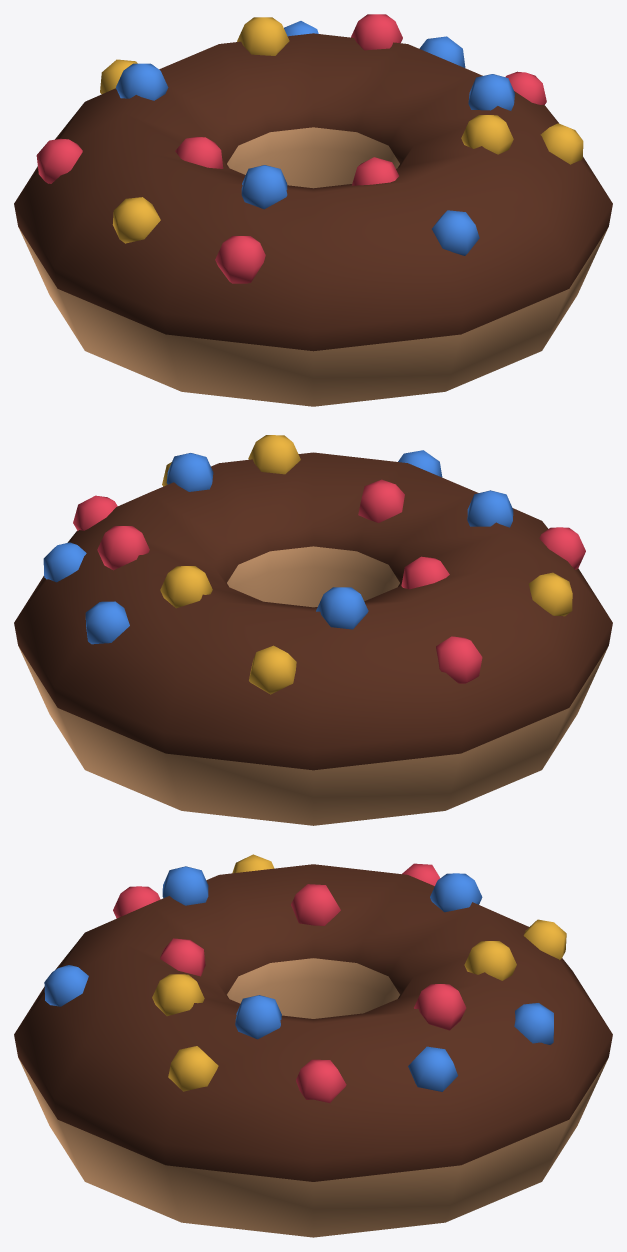
Rendered from DonutToy_01.fbx.
The picture shows the model from 3 angles, top to bottom: view 1: azimuth 30°, elevation 25°; view 2: azimuth 150°, elevation 25°; view 3: azimuth 270°, elevation 25°; orthographic projection.
Parts seen in each view (by area): view 1: DonutToy_01; view 2: DonutToy_01; view 3: DonutToy_01.
Part boxes in pixels (left/top/right/bottom): DonutToy_01: left=14, top=14, right=612, bottom=406; DonutToy_01: left=14, top=435, right=612, bottom=825; DonutToy_01: left=14, top=854, right=612, bottom=1237.
Bounding box in the file's own units: 0.1868 × 0.0799 × 0.1868.
